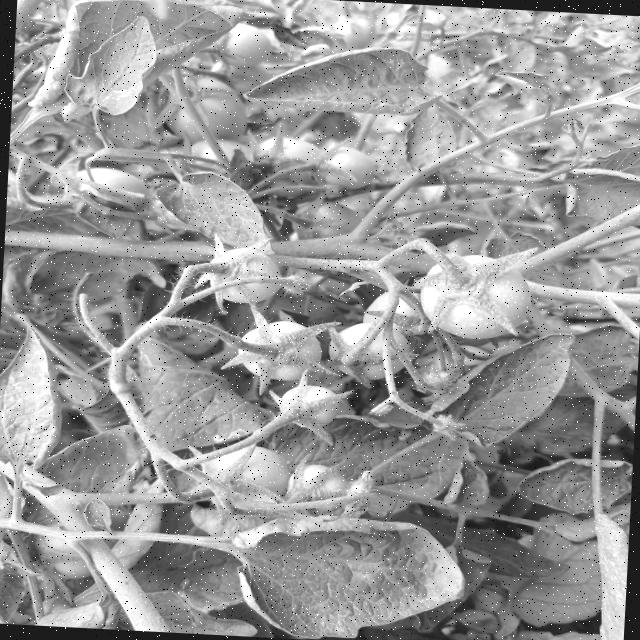Unripe: (416, 253, 534, 341), (233, 319, 320, 381)
